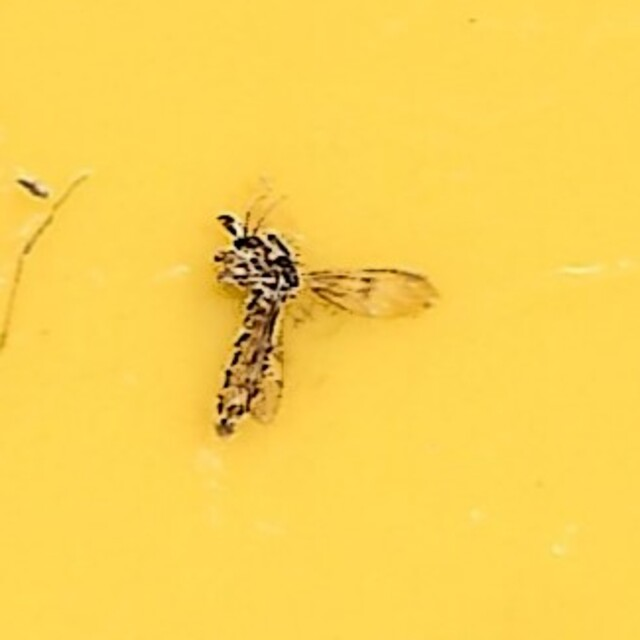Nematocera: (197, 194, 443, 446)
